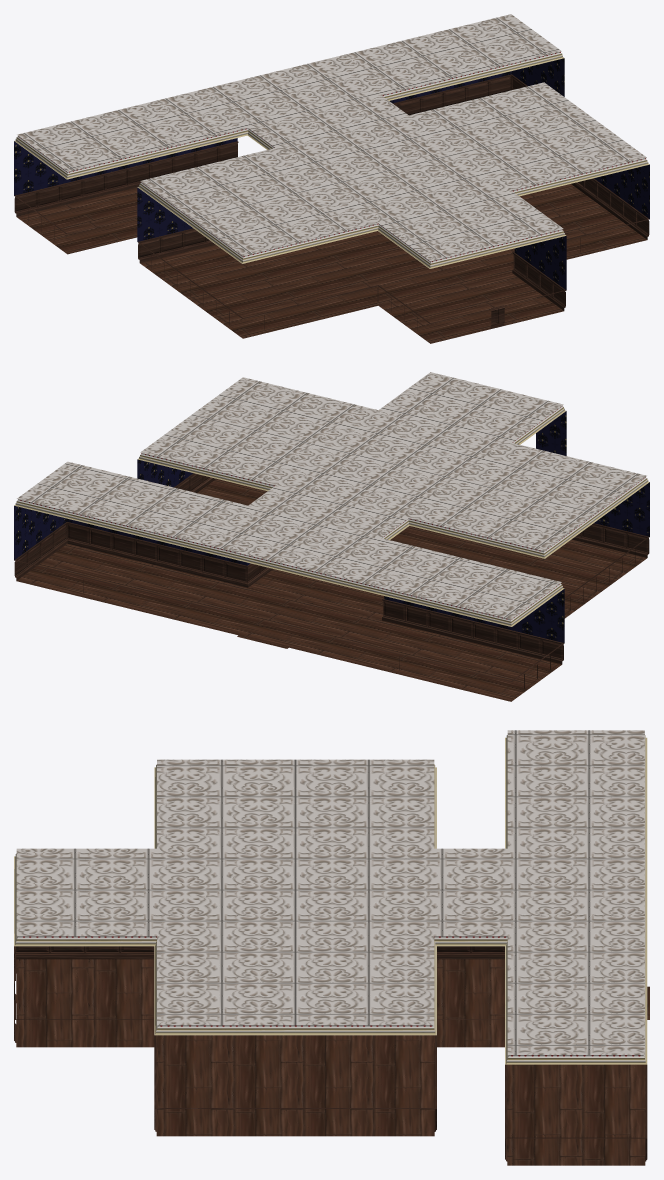
Rendered from Study_FINAL.fbx.
3 views of the same model, one above another, from view 1: azimuth 30°, elevation 25°; view 2: azimuth 150°, elevation 25°; view 3: azimuth 270°, elevation 25° (orthographic). The views are drawn at different scales.
Parts seen in each view (by area): view 1: Study; view 2: Study; view 3: Study.
Part boxes in pixels (left/top/right/bottom): Study: left=14, top=14, right=649, bottom=343; Study: left=14, top=372, right=649, bottom=701; Study: left=14, top=730, right=649, bottom=1165.
Size of the model in its own units: 2190 by 346 by 1800.
